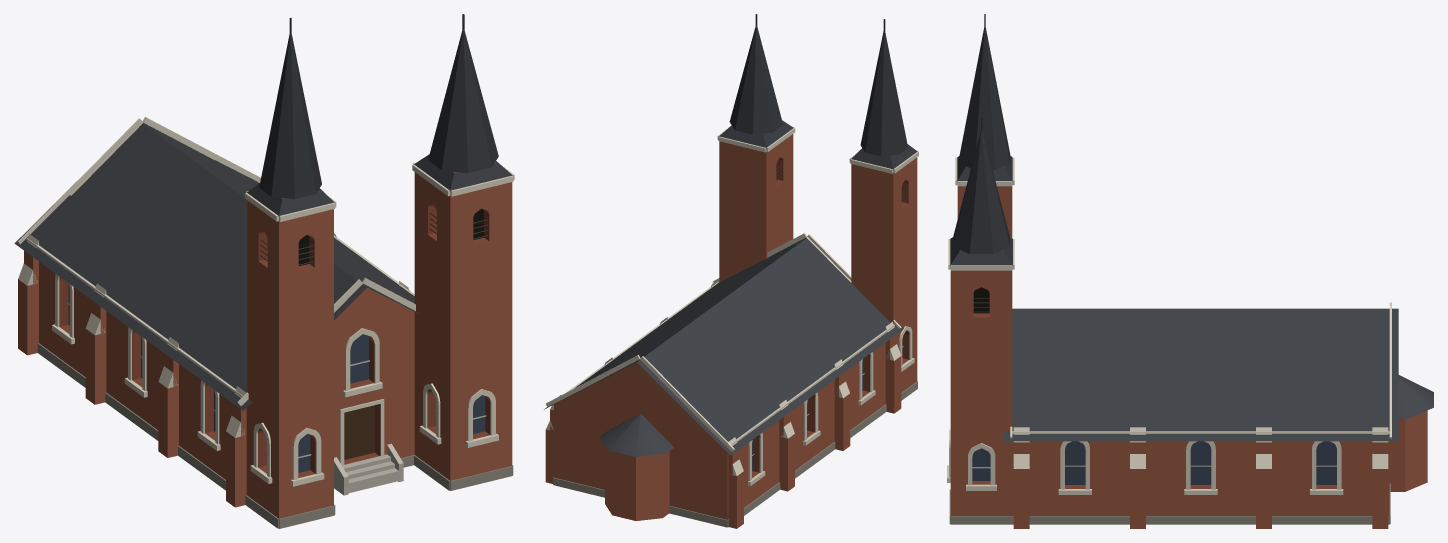
The model's file is ch-payne-chapel-1913.glb.
The picture shows the model from 3 angles, left to right: view 1: azimuth 30°, elevation 25°; view 2: azimuth 150°, elevation 25°; view 3: azimuth 270°, elevation 25°; orthographic projection. The views are drawn at different scales.
Visible parts, largest first — view 1: ch_brick, ch_roof, ch_trim, ch_roof2, ch_brick2, ch_base, ch_conc, ch_stain, ch_door, ch_shadow; view 2: ch_brick, ch_roof, ch_roof2, ch_trim, ch_base, ch_brick2; view 3: ch_roof, ch_brick, ch_roof2, ch_trim, ch_base, ch_stain.
Boxes of the visible parts, x1,y1,x2,y2 form: ch_brick: (18,171,512,518); ch_roof: (14,123,418,410); ch_trim: (18,117,514,486); ch_roof2: (247,30,512,216); ch_brick2: (59,203,490,477); ch_base: (37,343,513,528); ch_conc: (334,443,403,495); ch_stain: (68,284,485,472); ch_door: (344,405,374,459); ch_shadow: (298,208,483,266); ch_brick: (545,133,917,528); ch_roof: (544,237,903,456); ch_roof2: (719,26,917,169); ch_trim: (546,126,918,485); ch_base: (553,381,917,527); ch_brick2: (752,157,909,478); ch_roof: (1003,308,1433,441); ch_brick: (950,166,1427,528); ch_roof2: (950,28,1012,265); ch_trim: (947,157,1391,494); ch_base: (949,483,1390,524); ch_stain: (972,441,1336,484).
Bounding box in the file's own units: 11 × 20.61 × 21.3.
